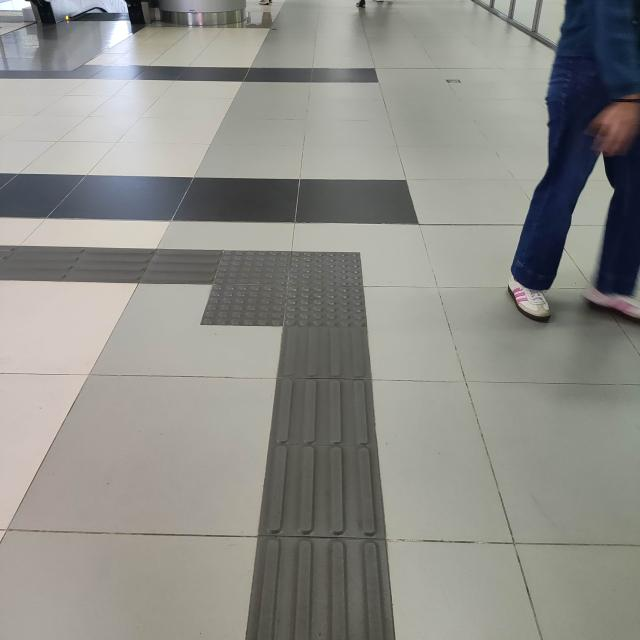kiri: (120, 201, 415, 378)
